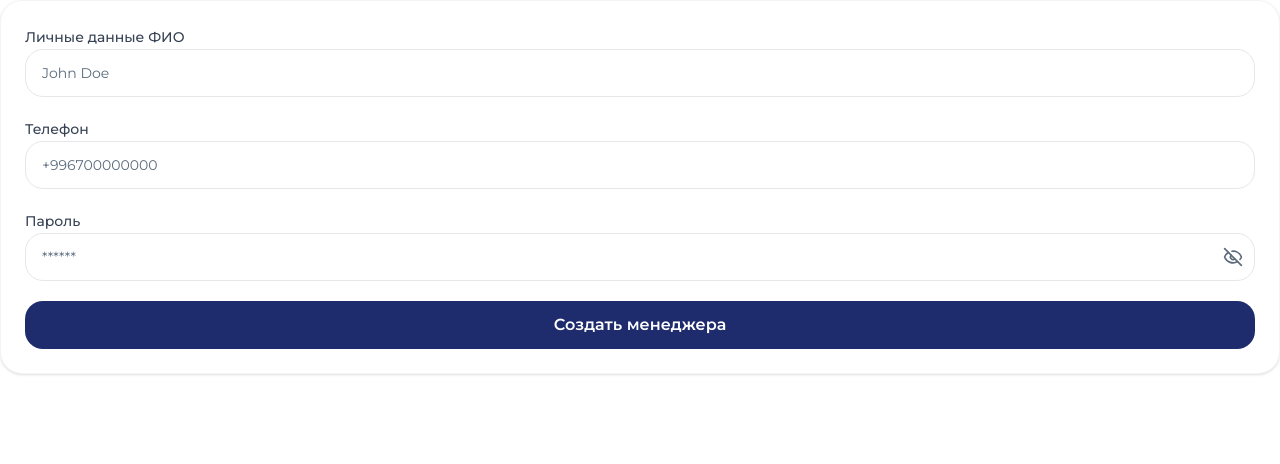
it: CreateManagerForm › проверяет минимальную длину имени
Step 1. Type "И" into the field labelled "Личные данные ФИО" → (640, 73), box left=25, top=49, right=1255, bottom=97
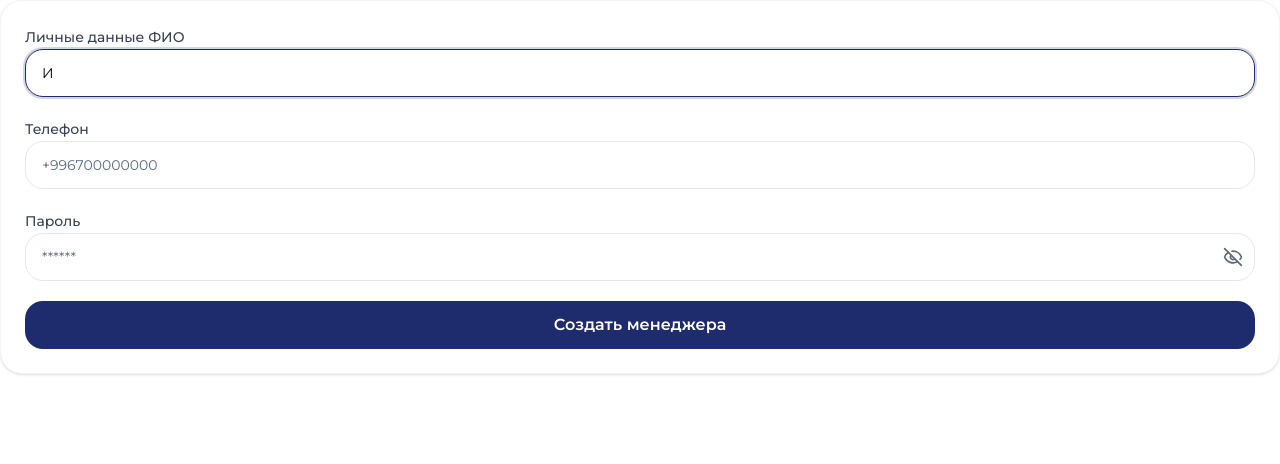
Step 2. Click the button "Создать менеджера" → (640, 325), box left=25, top=301, right=1255, bottom=349
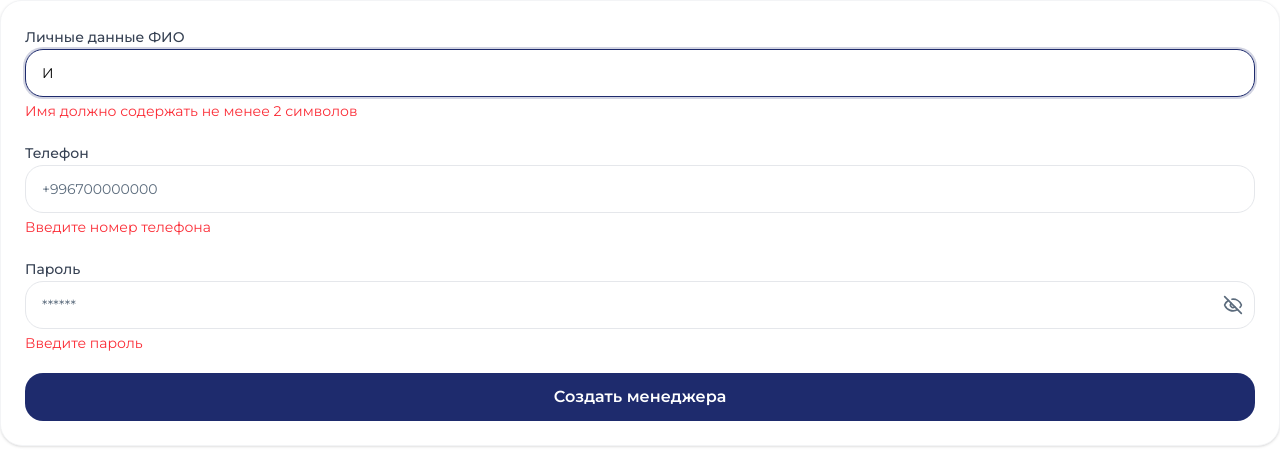
Check: the text "Имя должно содержать не менее 2 символов" is shown, box left=25, top=102, right=357, bottom=120
